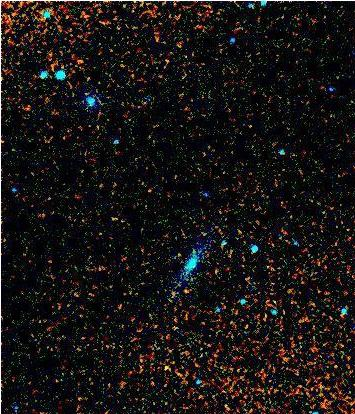star: (147, 352, 177, 382)
